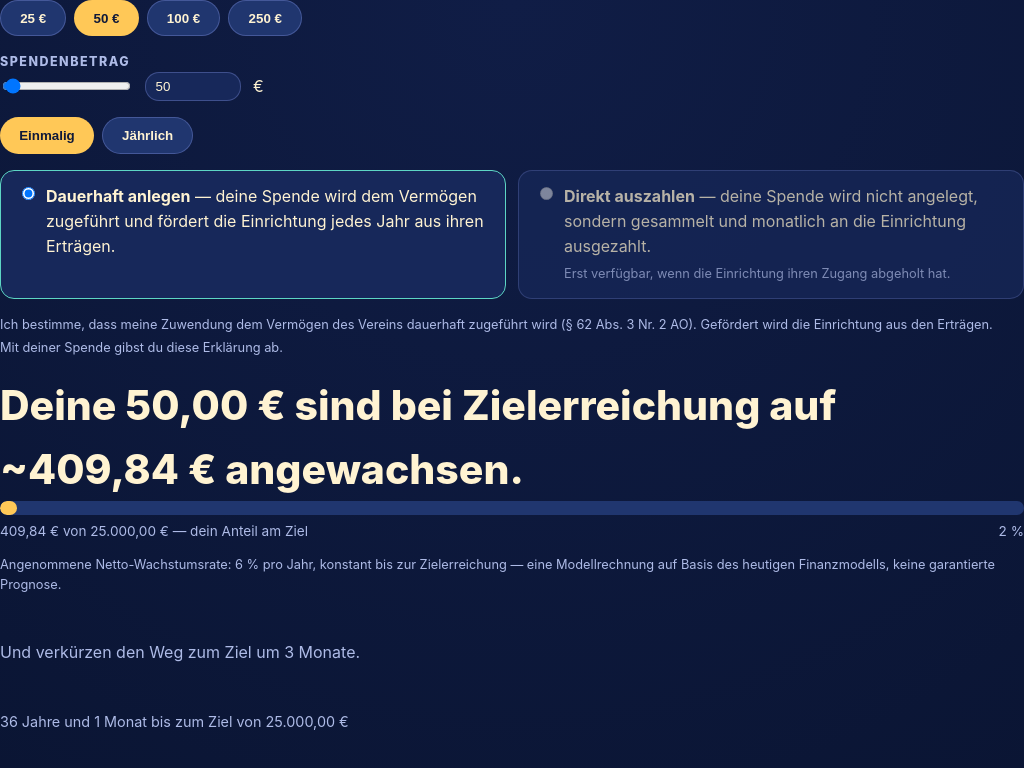
Test: SpendenRechner › Betrag < 5 € zeigt neutralen Hinweis statt absurder 0-€-Story (F5) › zeigt Hero und Wirkungs-Zeile wieder, sobald der Betrag auf mindestens 5 € gesetzt wird
The width and height of the screenshot is (1024, 768).
Replace the text in the number field named "Spendenbetrag" with "5" at point(193, 86), box [145,72,241,101]
(page scrolled)
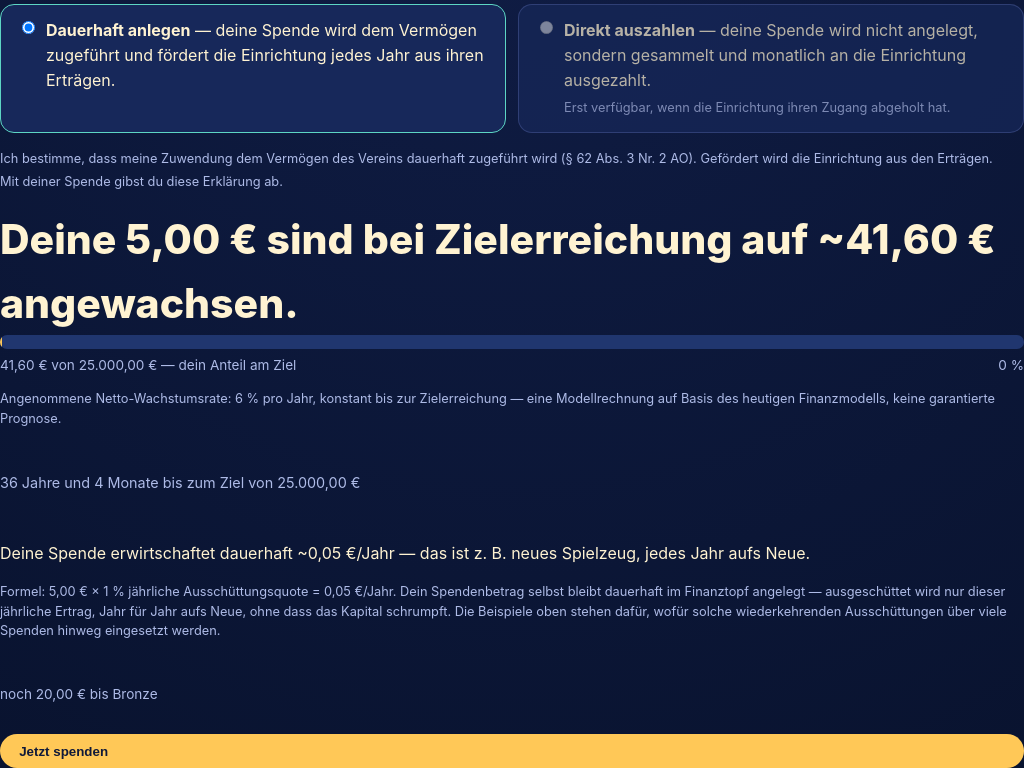
Expected: the text with test id "betrag-hinweis" is gone
Expected: the element with test id "zukunftswert-hero" is shown, [0,208,1023,442]
Expected: the element with test id "impact-beispiel" is shown, [0,525,1023,654]
